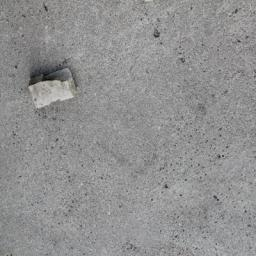FOD: (24, 65, 83, 114)
